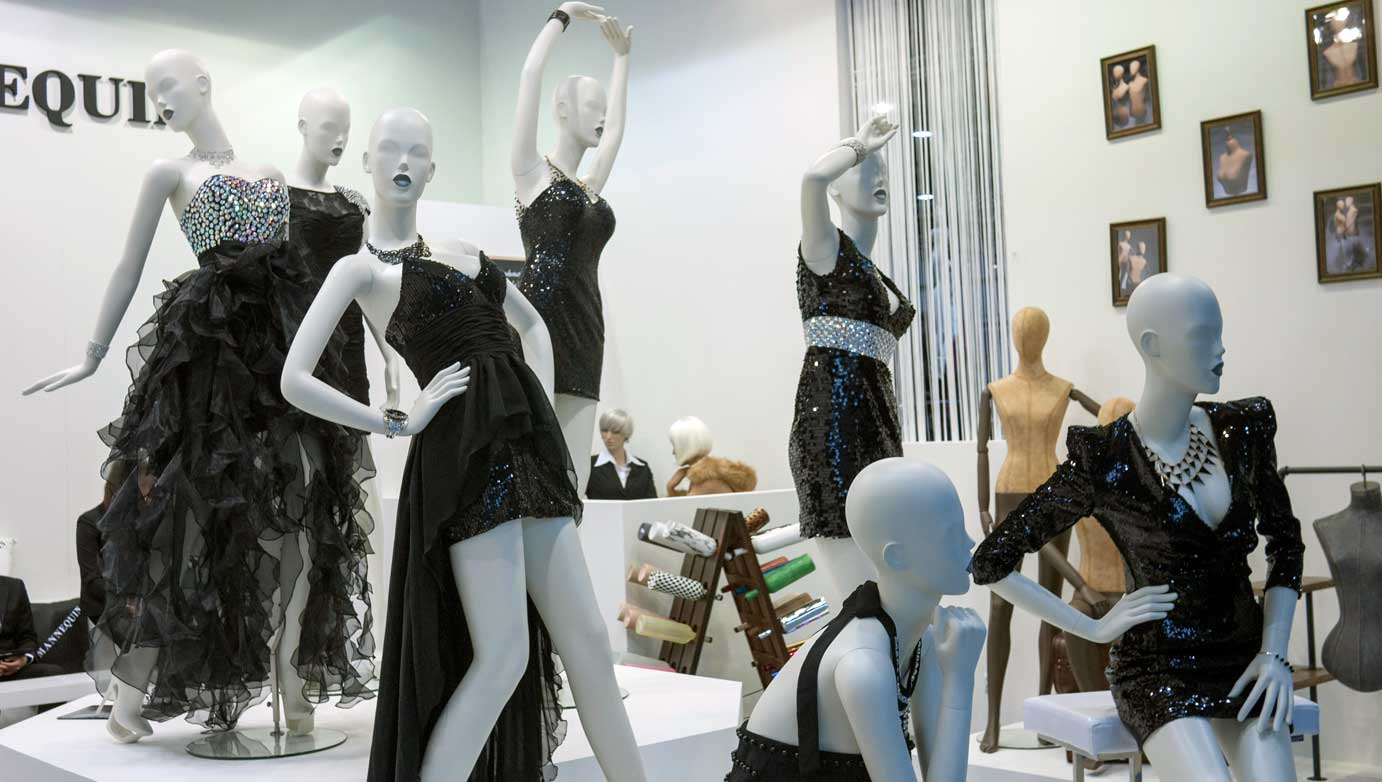person: (580, 407, 659, 496)
person-like: (276, 101, 649, 782), (19, 42, 369, 750), (967, 264, 1310, 782), (717, 453, 993, 782), (502, 3, 640, 510), (778, 97, 914, 592), (972, 299, 1106, 755), (278, 79, 374, 259), (1311, 467, 1382, 698)
